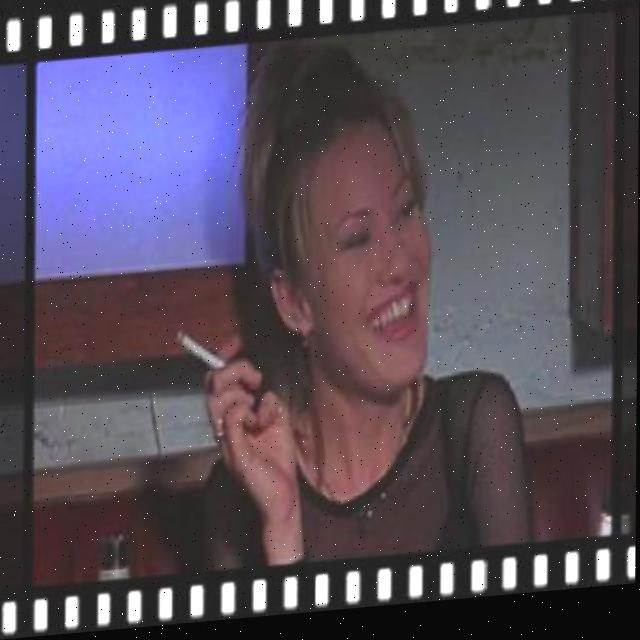cigarette: (174, 324, 228, 381)
